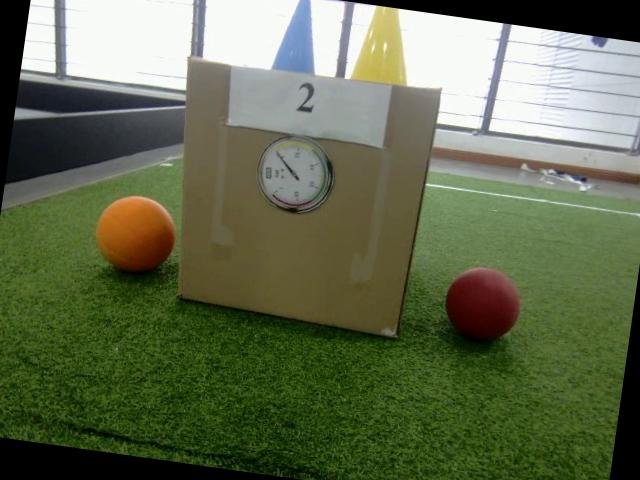2: (292, 80, 322, 118)
Dashboard: (251, 131, 340, 219)
blue_barrel: (269, 0, 330, 78)
orange_ball: (91, 190, 180, 278)
red_ball: (440, 262, 526, 344)
ssi: (262, 164, 274, 181)
yellow_barrel: (348, 3, 420, 89)
